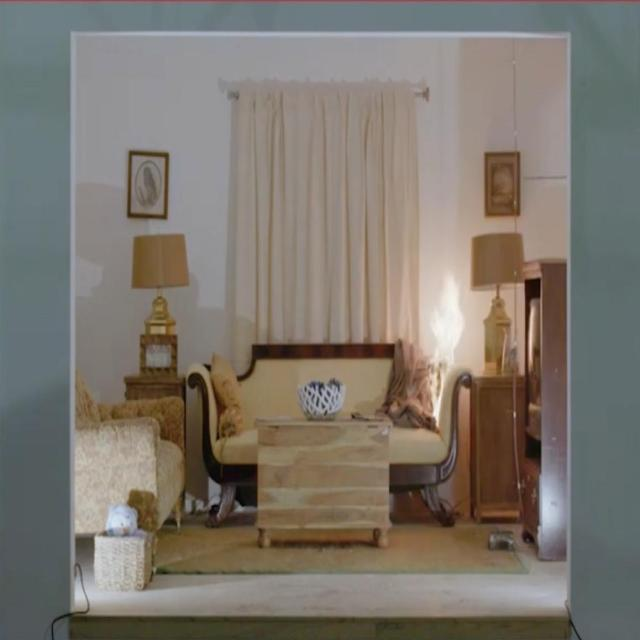smoke: (417, 275, 464, 419)
